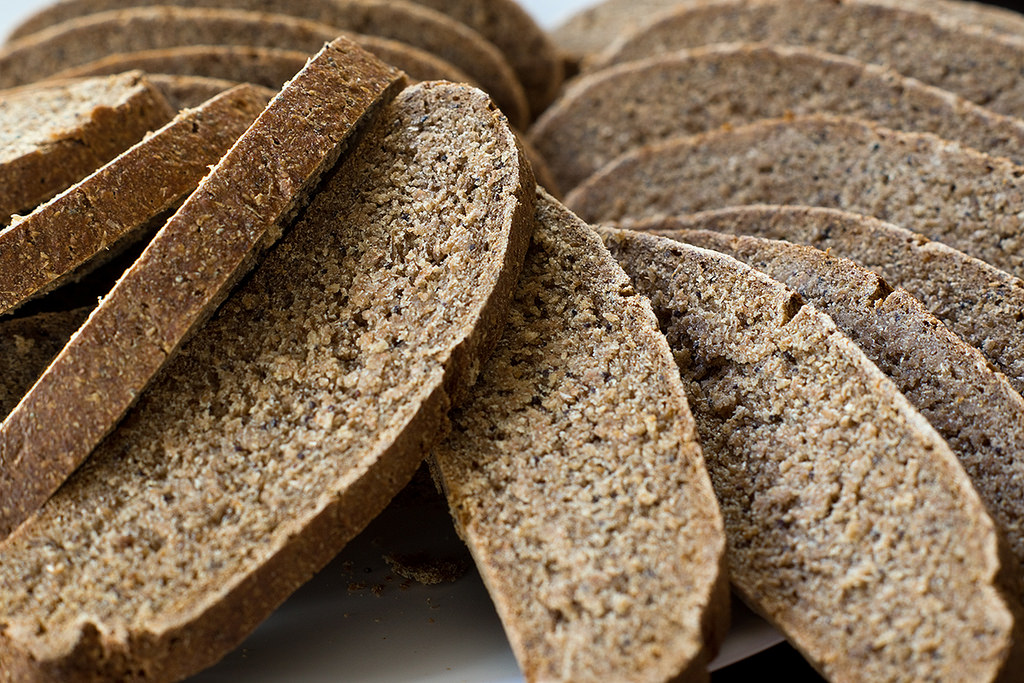slice of bread: (17, 12, 1005, 667), (541, 207, 994, 680), (405, 157, 717, 683)
